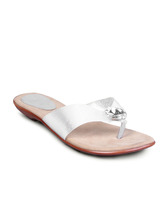shoes: (10, 87, 158, 159)
